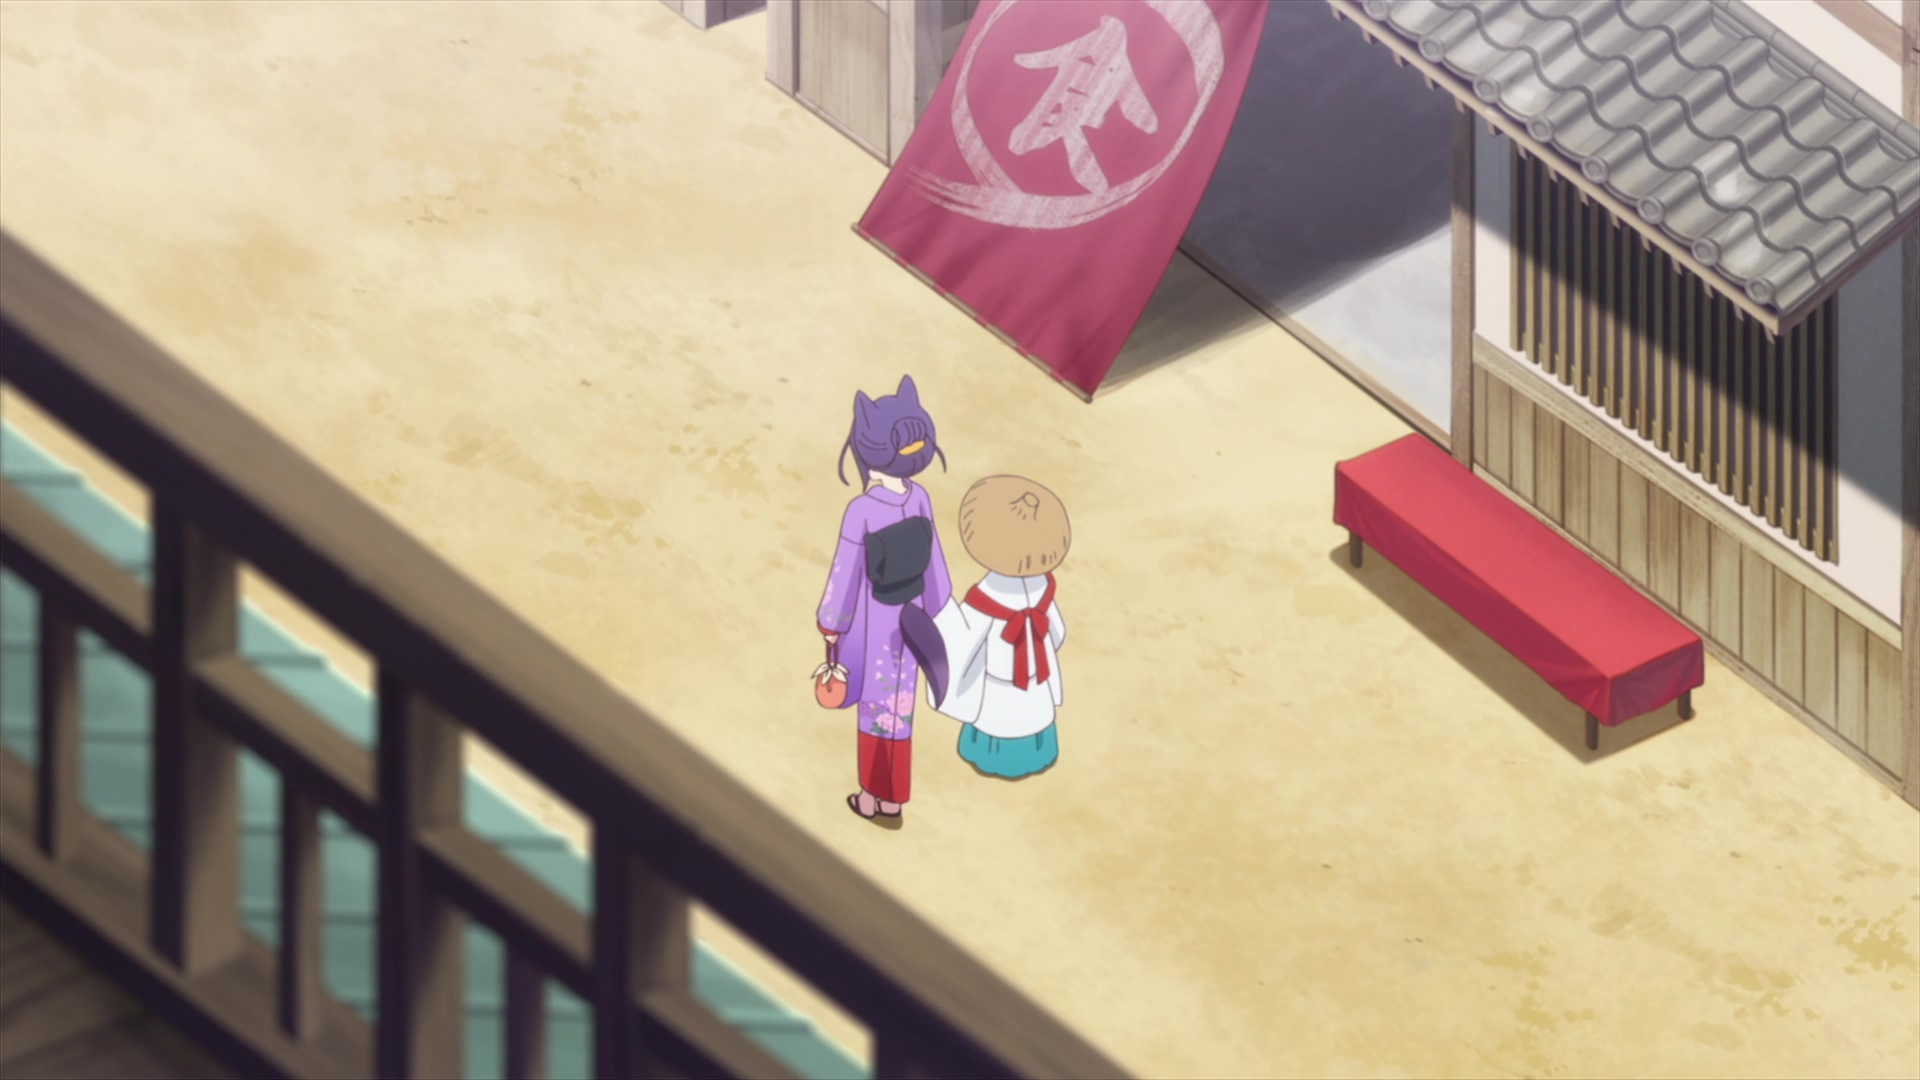其他: (924, 475, 1071, 781)
皋: (814, 375, 952, 832)
